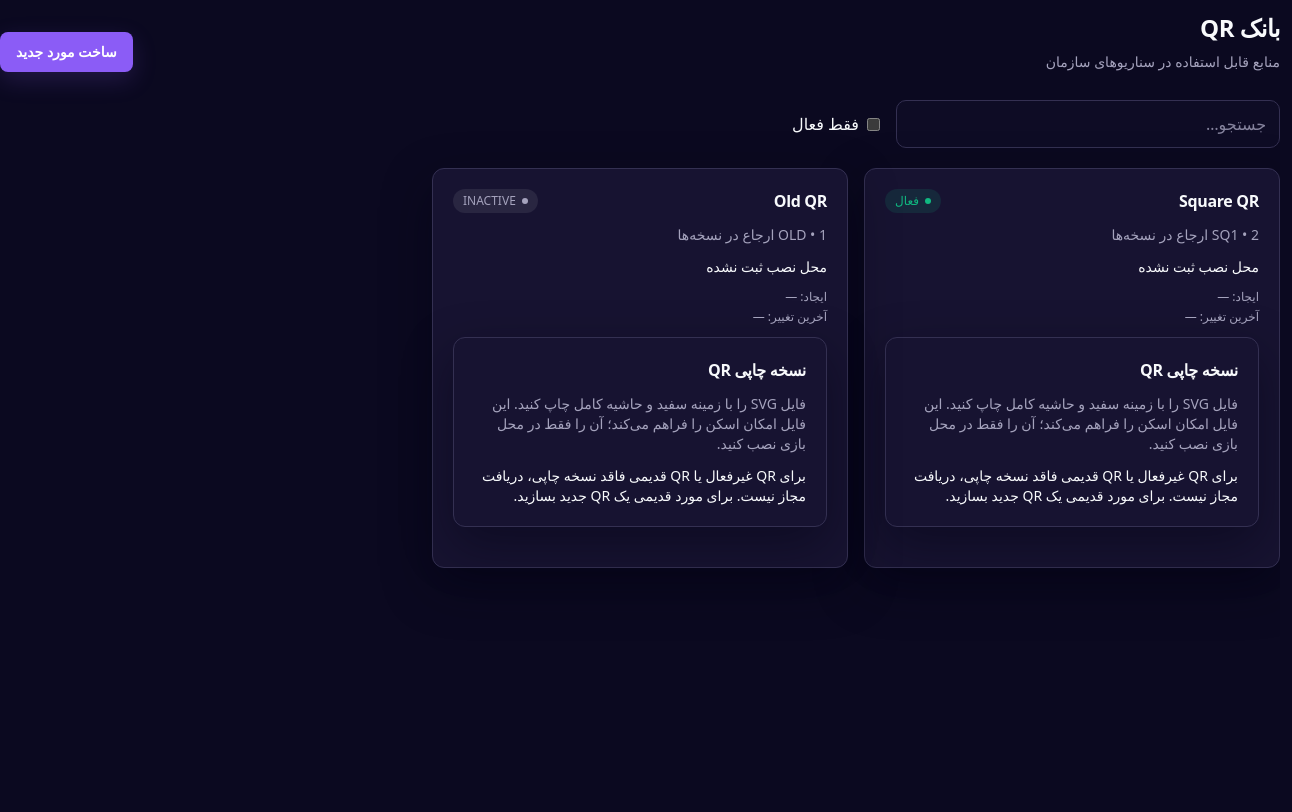
it: searches and filters the QR bank without showing any secret
This screenshot has width=1292, height=812.
Expected: the heading "Square QR" is shown, [1179,189,1259,213]
Click the checkbox labelled "فقط فعال" at point(874, 124), box [867,118,880,131]
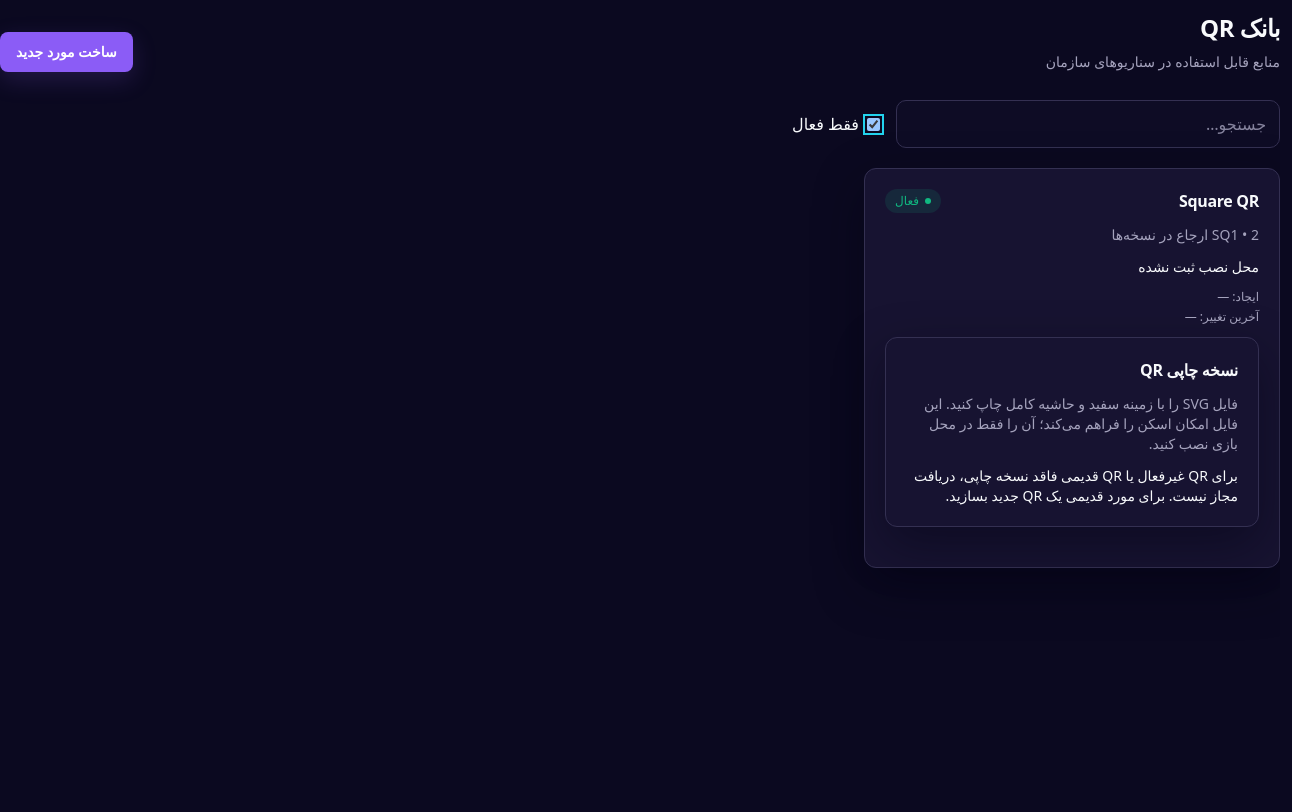
Result: the link "Old QR" is gone
Type "missing" into the field named "جستجو در بانک" at point(1088, 124), box [896,100,1280,148]
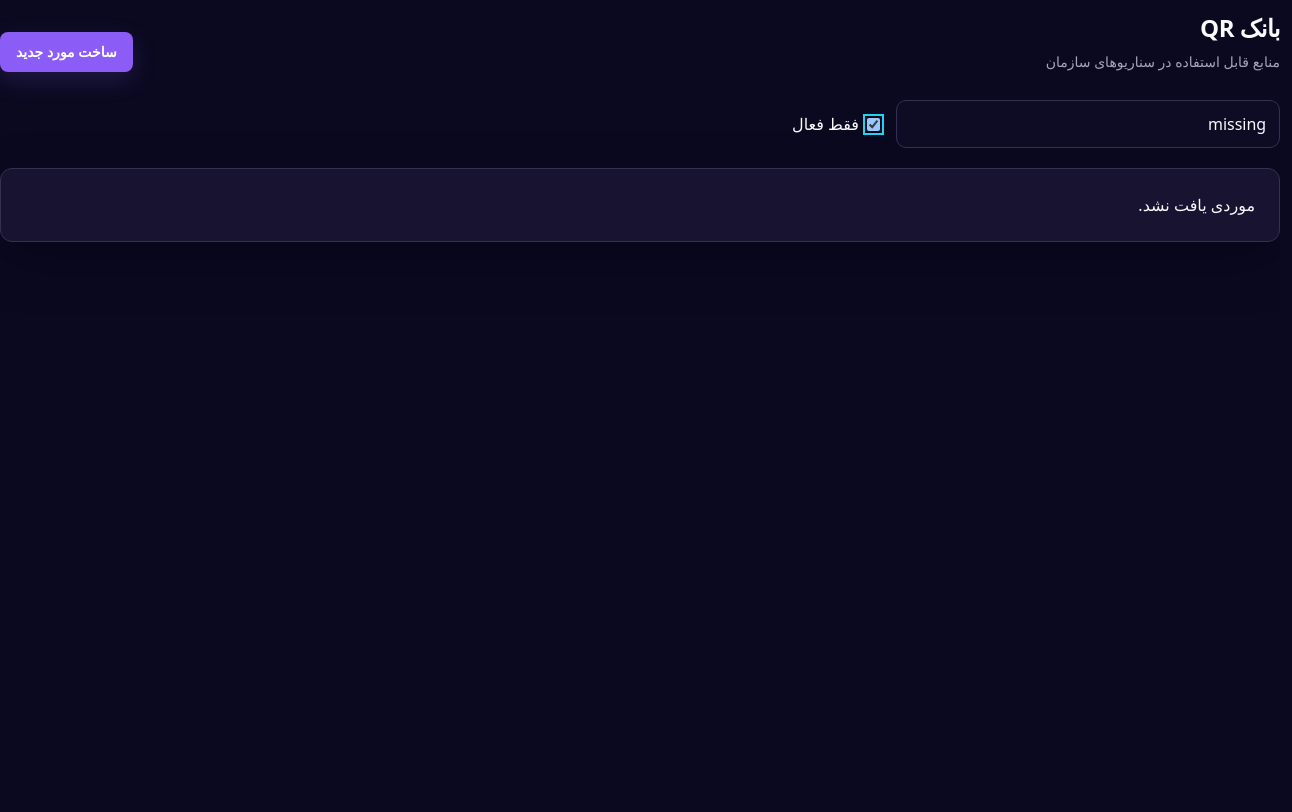
Result: the text "موردی یافت نشد." is shown at [0,168,1280,242]
